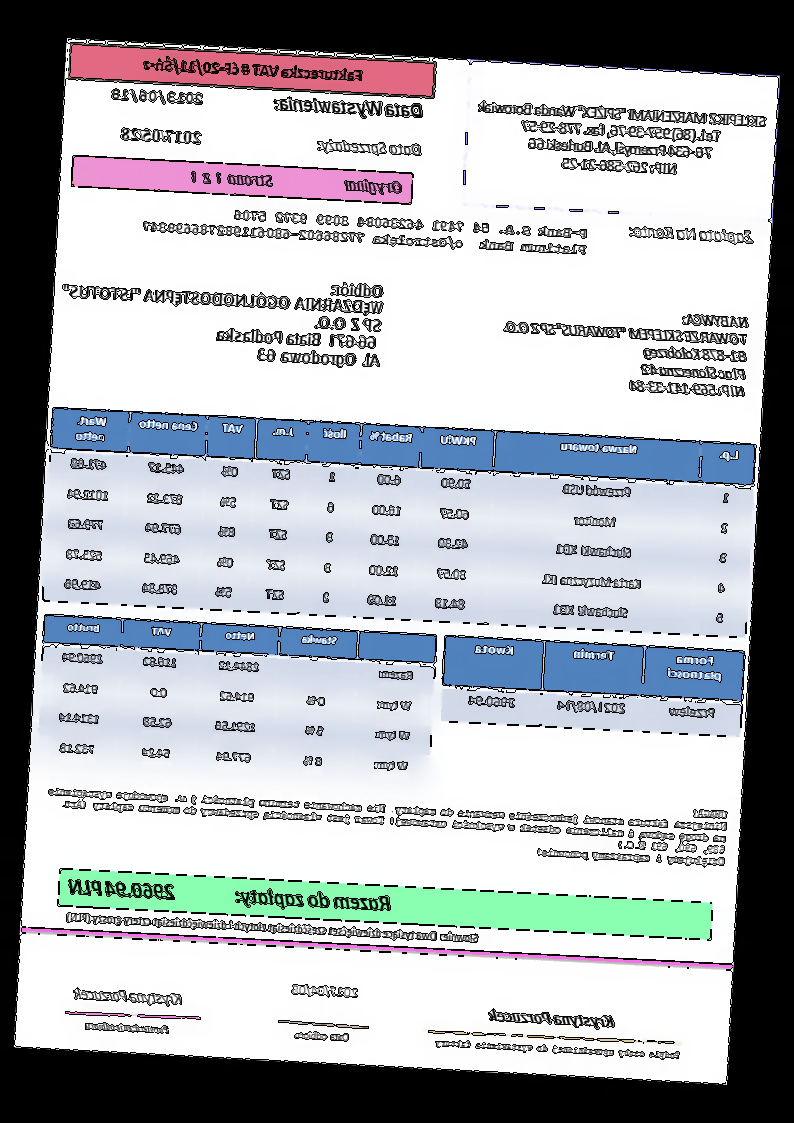Table: (41, 407, 757, 640), (34, 614, 438, 786), (440, 635, 747, 739)
TextBox: (44, 773, 731, 871), (57, 267, 385, 372), (138, 202, 590, 260), (474, 95, 769, 183), (496, 302, 752, 401), (64, 909, 481, 948), (66, 876, 394, 915), (434, 1035, 682, 1064), (140, 55, 364, 85), (186, 167, 403, 196), (271, 93, 425, 123), (485, 1007, 617, 1033), (626, 222, 757, 248), (71, 984, 185, 1010), (316, 137, 423, 160), (110, 86, 205, 109), (289, 978, 361, 1003), (121, 126, 202, 147), (82, 1020, 171, 1037), (292, 1027, 351, 1044)
